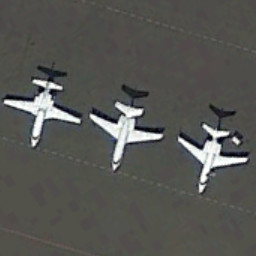Airplane: (1, 67, 85, 155), (84, 93, 167, 179), (173, 113, 253, 201)
